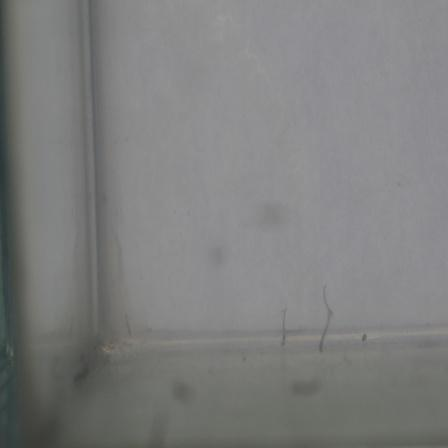Jentik-Nyamuk: (312, 283, 337, 351), (277, 302, 293, 353)
